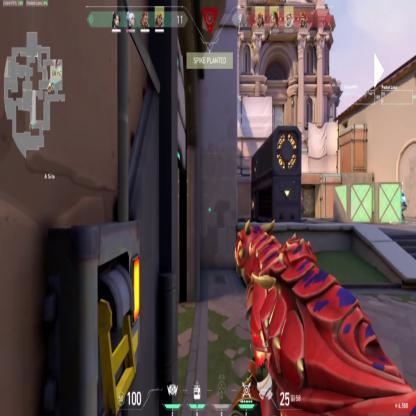enemy: (298, 192, 305, 222)
enemy_head: (300, 192, 304, 200)
